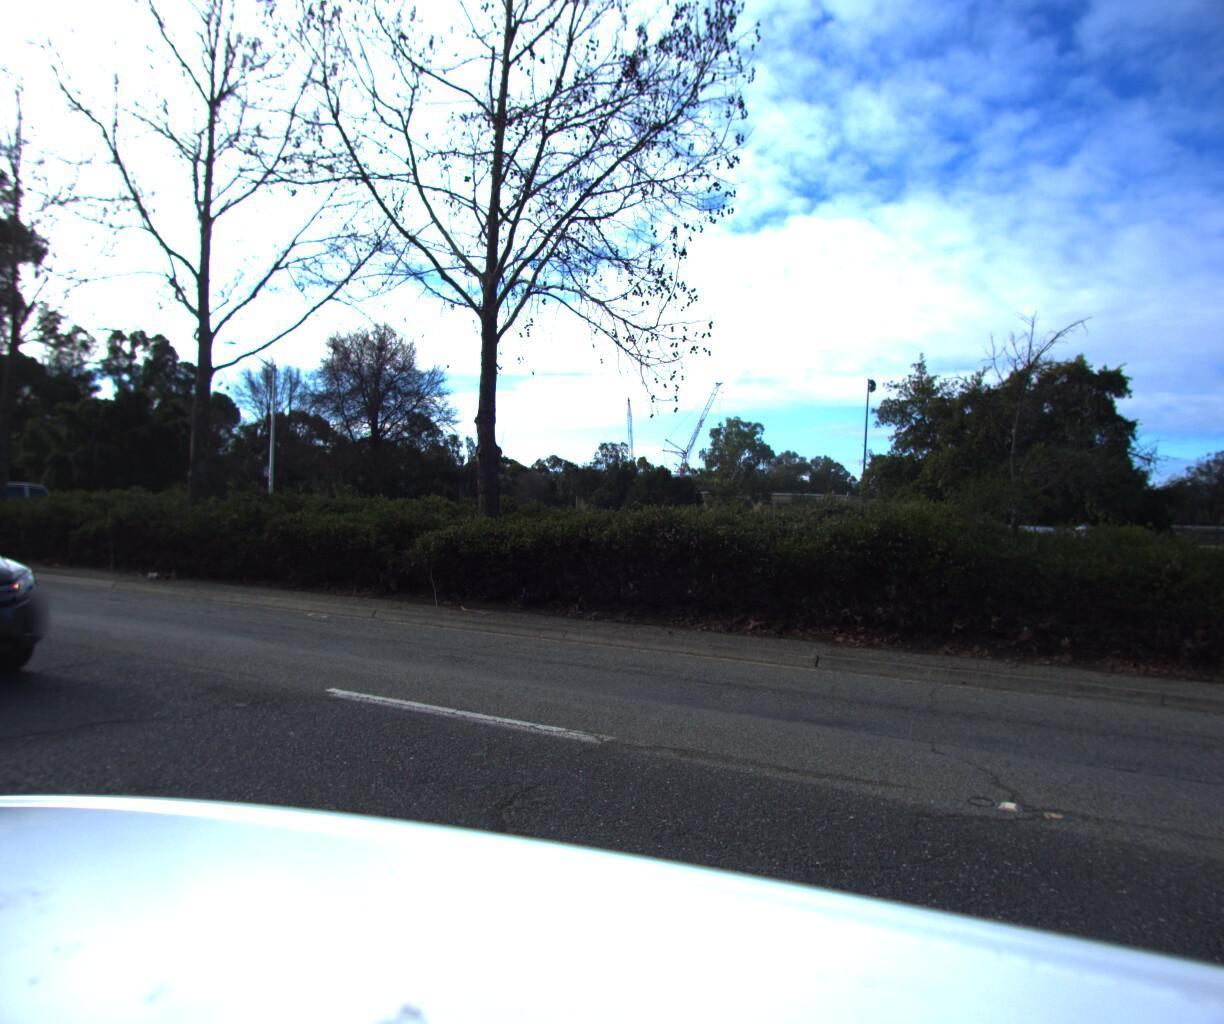car: (0, 459, 93, 731), (0, 477, 52, 547)
